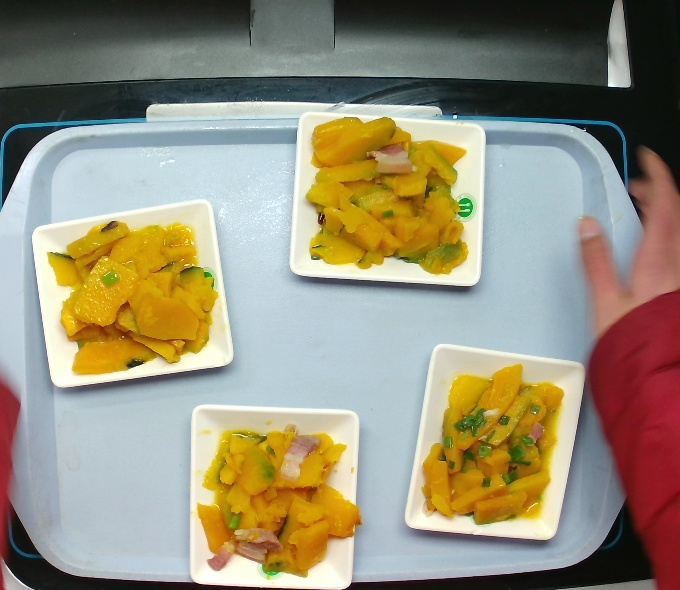wcq-NanGuaChaoLaRou: (44, 215, 223, 380), (301, 113, 472, 278), (195, 418, 366, 581), (415, 360, 568, 528)
